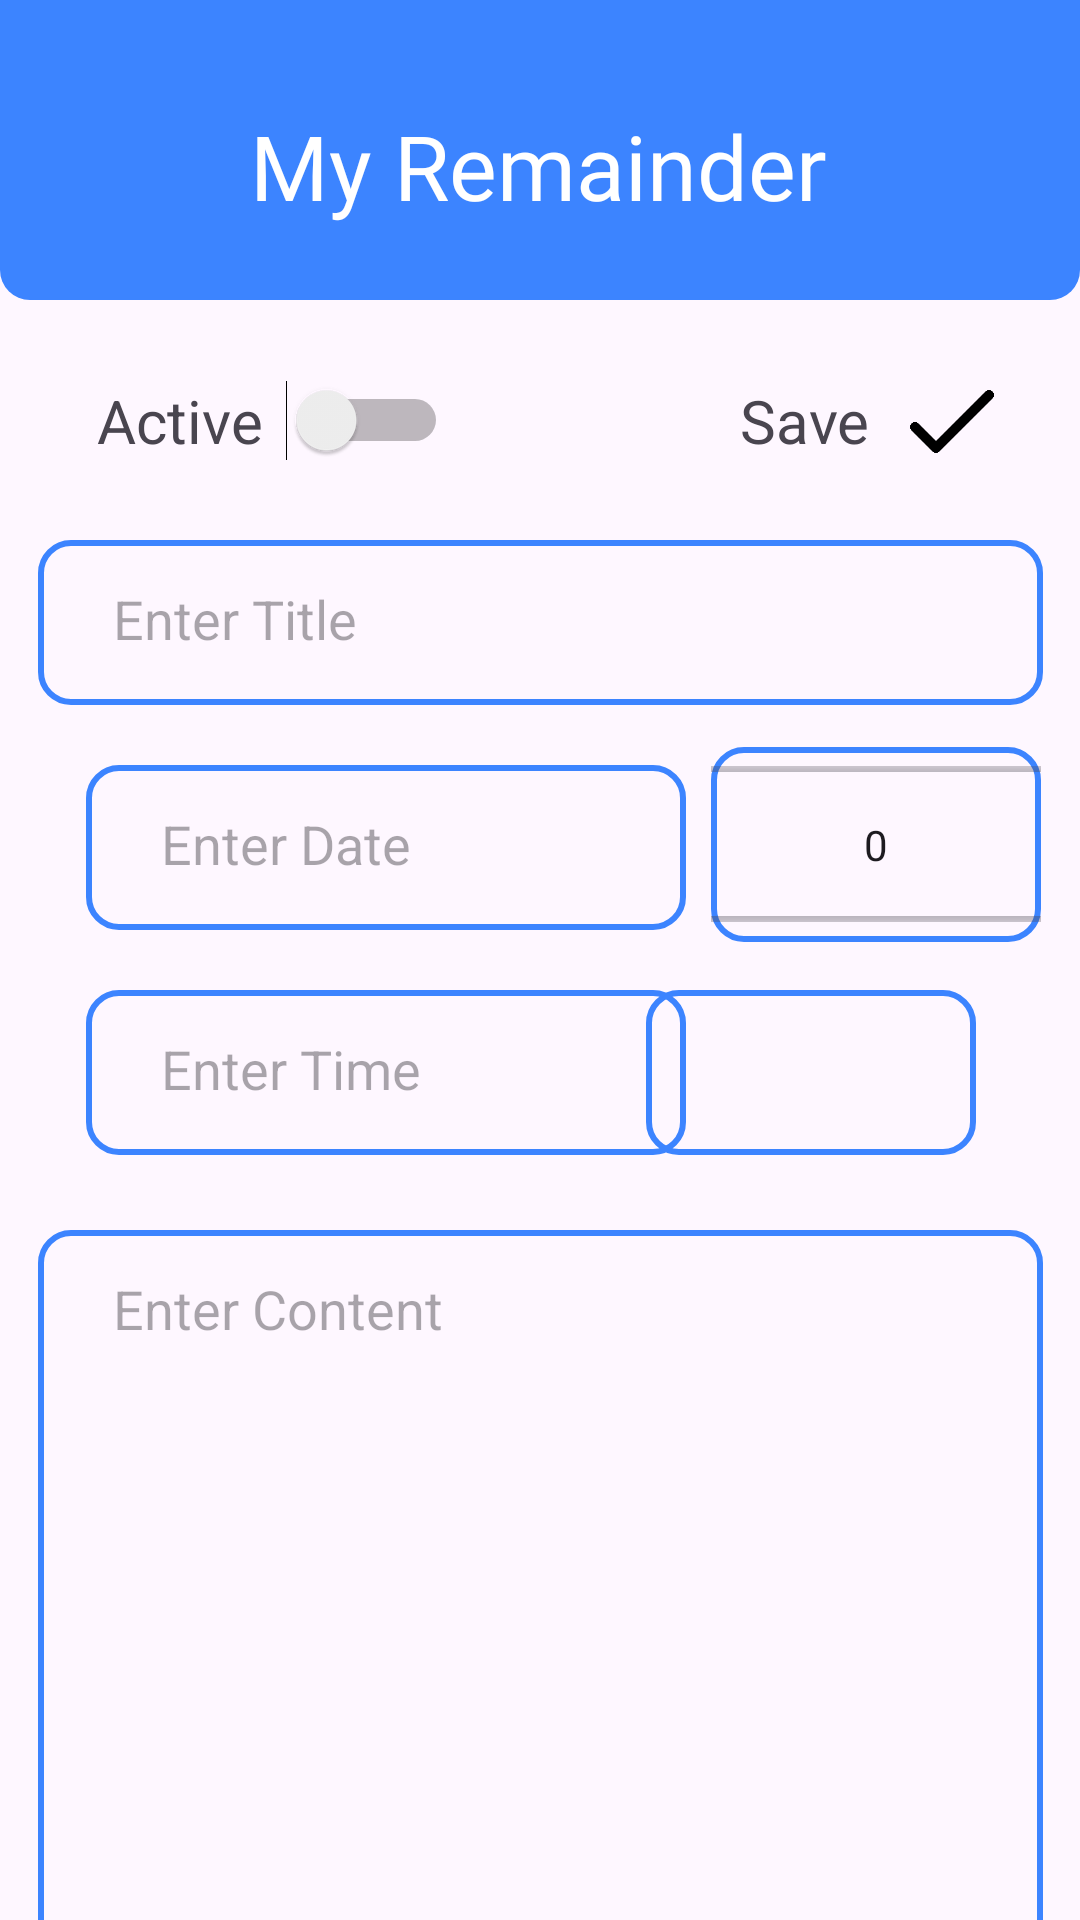

Where to tap for icons on this 1080x1920 app screen, as [x,y]:
done: [952,421]
